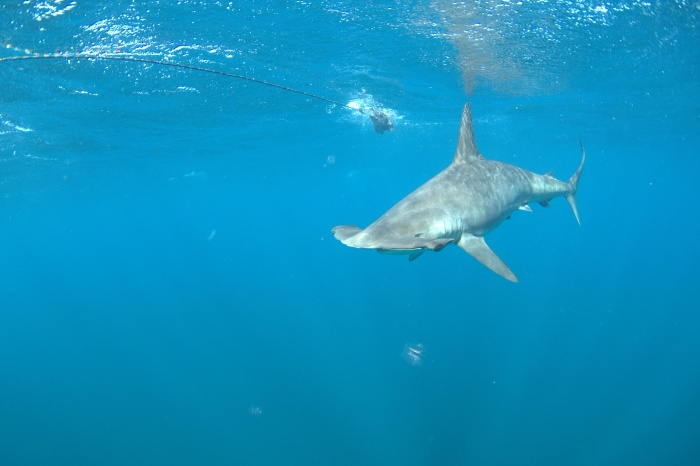Hammer: (292, 84, 631, 314)
